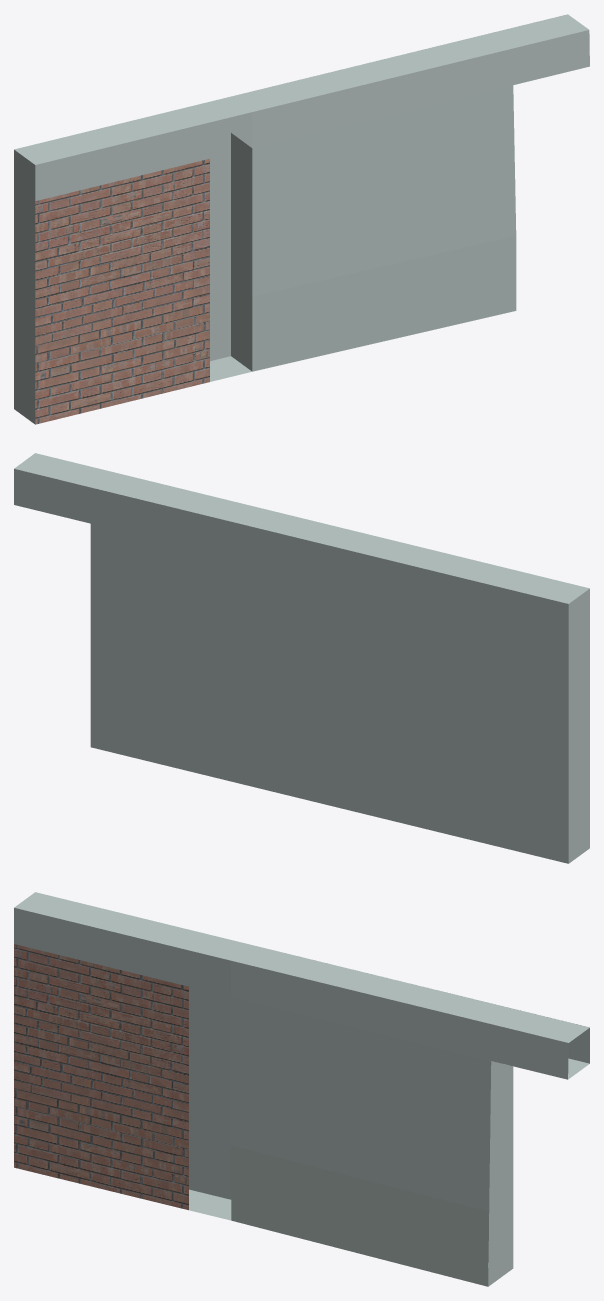
File: PareteSinistraFondo.dae
3 views of the same model, one above another, from view 1: azimuth 30°, elevation 25°; view 2: azimuth 150°, elevation 25°; view 3: azimuth 330°, elevation 25° (orthographic).
Parts seen in each view (by area): view 1: PareteSinistra; view 2: PareteSinistra; view 3: PareteSinistra.
Part boxes in pixels (bbox=[...]): PareteSinistra: bbox=[14, 14, 589, 424]; PareteSinistra: bbox=[14, 453, 589, 863]; PareteSinistra: bbox=[14, 892, 589, 1286].
Size of the model in its own units: 5.14 by 0.4 by 2.3.
